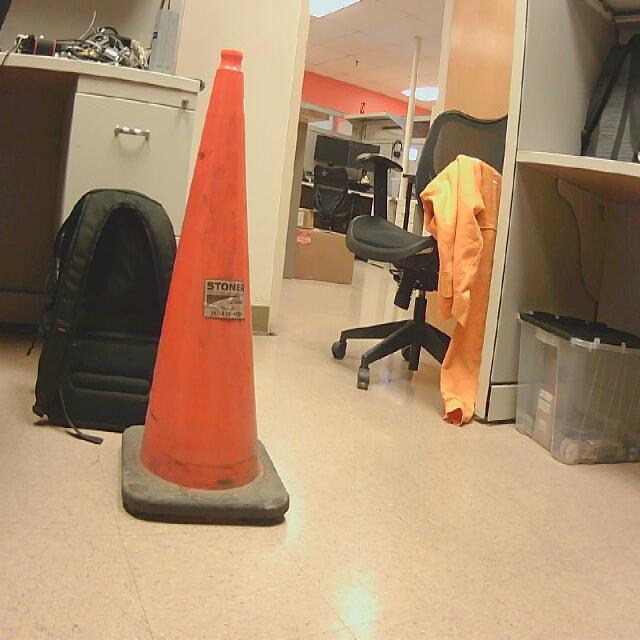traffic cone: (123, 50, 291, 530)
